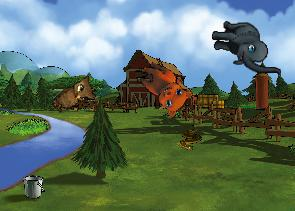bear: (127, 57, 197, 121)
elephant: (211, 20, 281, 77)
owl: (49, 71, 102, 123)
